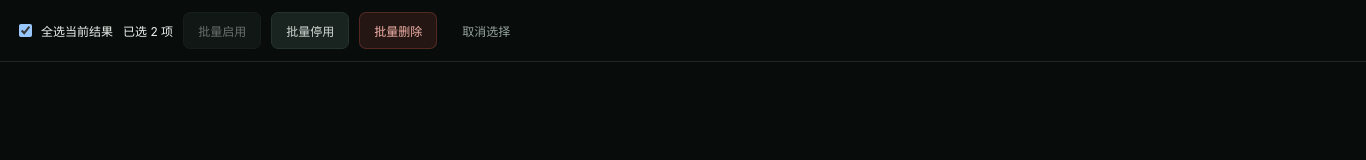
Test: 包批量操作 › 离开页面后停止等待，不补交操作
This screenshot has width=1366, height=160.
Click the button "批量停用".
click(310, 30)  # box [271, 12, 349, 49]
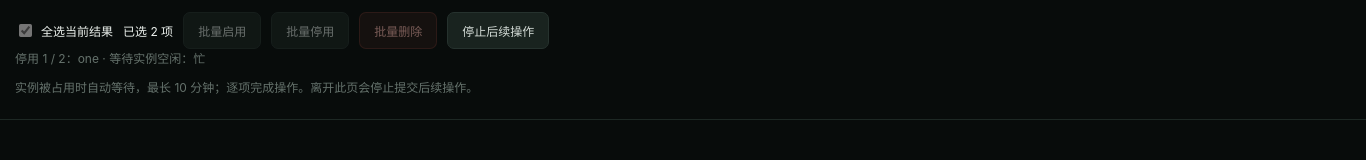
Check: the text "停用 1 / 2：one · 等待实例空闲：忙" is shown, box [15, 51, 205, 66]
